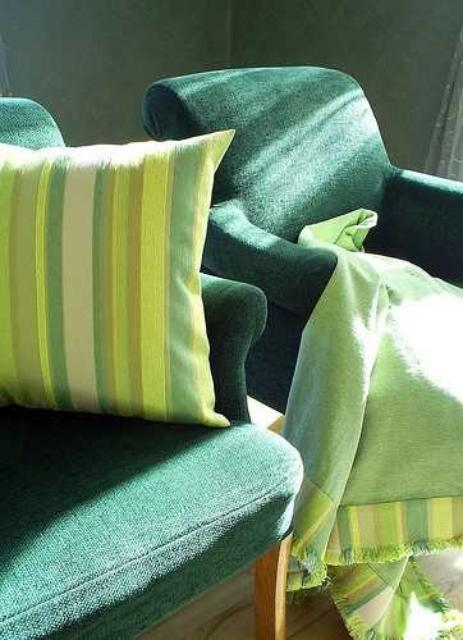pillow: (1, 127, 236, 427)
